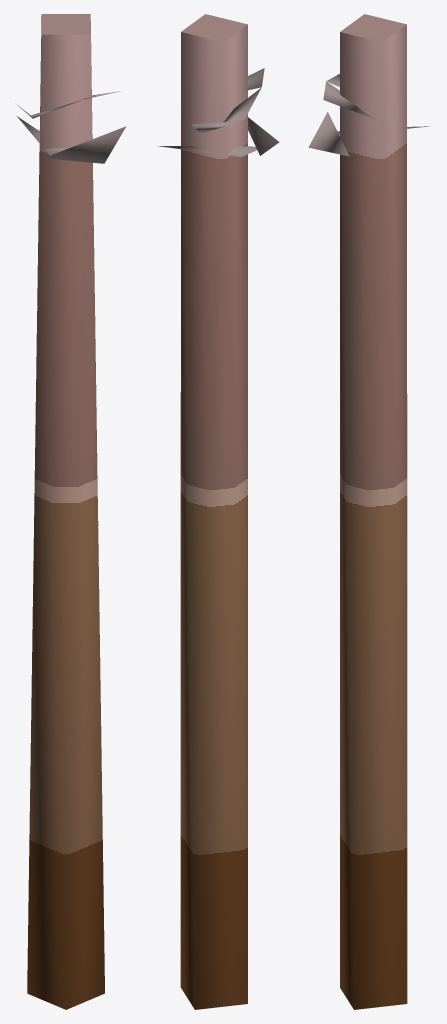
File: Environment_Dock_Pole.low.gltf
3 renders of one model, left to right at view 1: azimuth 90°, elevation 25°; view 2: azimuth 150°, elevation 25°; view 3: azimuth 330°, elevation 25°, orthographic.
Parts seen in each view (by area): view 1: Environment_Dock_Pole; view 2: Environment_Dock_Pole; view 3: Environment_Dock_Pole.
Boxes of the visible parts, x1,y1,x2,y2 form: Environment_Dock_Pole: (15, 14, 126, 1009); Environment_Dock_Pole: (157, 14, 279, 1009); Environment_Dock_Pole: (308, 14, 429, 1009).
Bounding box in the file's own units: 0.2979 × 3.01 × 0.3159.
Materials: 1 (1 with a texture image).
